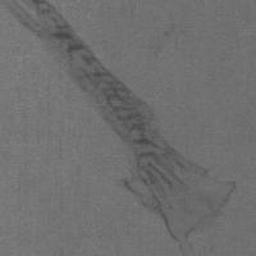Water spot: (3, 0, 238, 256)
